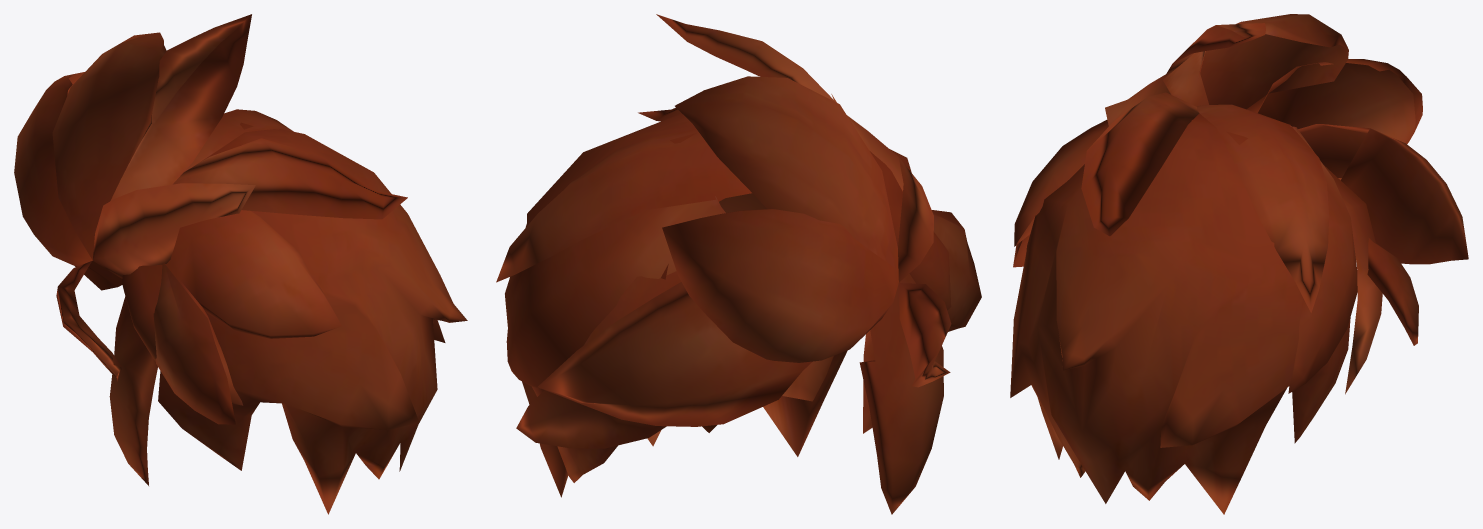
The model's file is Head.fbx.
3 views of the same model, side by side, from view 1: azimuth 30°, elevation 25°; view 2: azimuth 150°, elevation 25°; view 3: azimuth 270°, elevation 25° (orthographic). The views are drawn at different scales.
Visible parts, largest first — view 1: Hair05; view 2: Hair05; view 3: Hair05.
Boxes of the visible parts, left/top/right/bottom form: Hair05: left=14, top=14, right=467, bottom=514; Hair05: left=496, top=14, right=981, bottom=514; Hair05: left=1010, top=14, right=1468, bottom=514.
Size of the model in its own units: 1.8 by 2.05 by 1.98.
